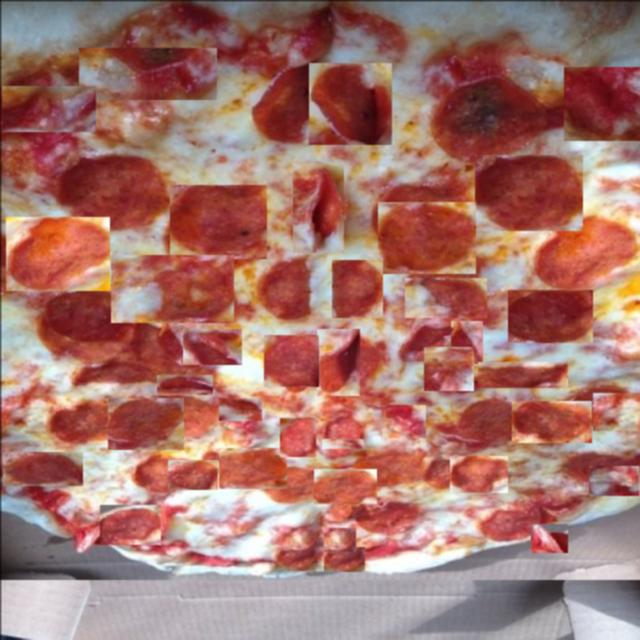pepperoni: (94, 78, 208, 166), (110, 254, 233, 322), (474, 154, 582, 230), (5, 216, 109, 290), (169, 184, 266, 258), (78, 47, 216, 99), (377, 201, 475, 273), (308, 62, 391, 144), (563, 66, 639, 140), (292, 162, 343, 252), (507, 289, 592, 342), (1, 85, 95, 131), (107, 397, 183, 449), (8, 383, 84, 428), (511, 400, 591, 442), (404, 277, 486, 317), (331, 259, 382, 317), (316, 328, 359, 395), (263, 334, 318, 386), (218, 447, 286, 488), (2, 451, 82, 485), (426, 401, 500, 437), (600, 234, 639, 298), (99, 504, 160, 544), (477, 361, 567, 387), (313, 468, 376, 503), (423, 346, 473, 390), (449, 455, 507, 492), (182, 328, 241, 364), (223, 501, 283, 532), (592, 392, 640, 430), (474, 507, 524, 543), (381, 402, 425, 437), (588, 465, 638, 495), (167, 459, 217, 489), (449, 320, 482, 363), (279, 417, 315, 456), (156, 374, 212, 394), (528, 523, 566, 552), (323, 544, 364, 570), (218, 397, 261, 420), (287, 496, 319, 526), (394, 447, 440, 465), (323, 527, 355, 550), (321, 438, 363, 448)
pizza: (0, 0, 640, 579)
